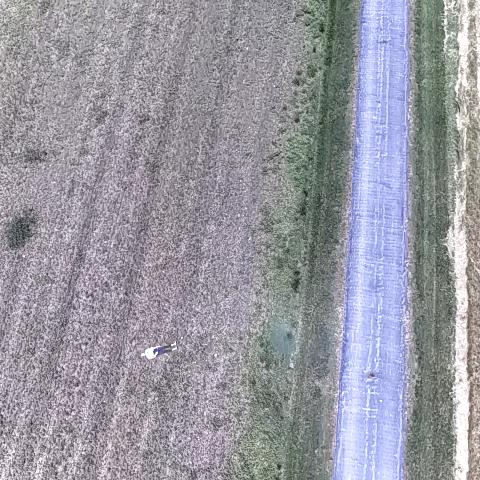person: (137, 339, 179, 361)
